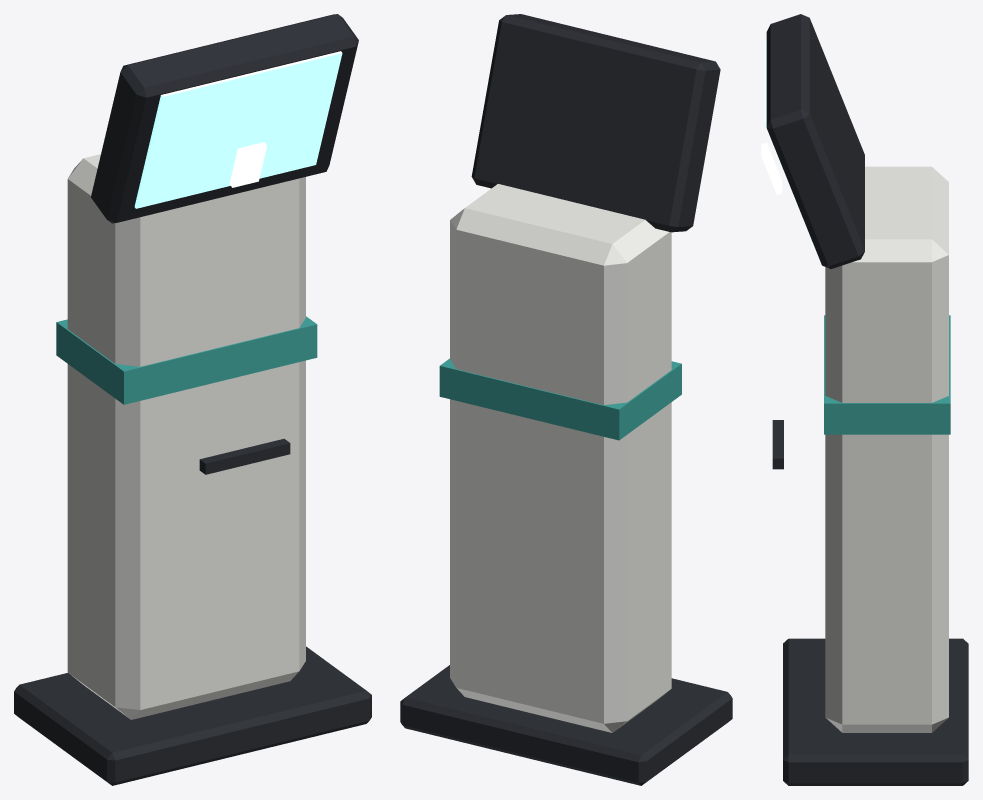
The model's file is selfservice_1.glb.
3 views of the same model, side by side, from view 1: azimuth 30°, elevation 25°; view 2: azimuth 150°, elevation 25°; view 3: azimuth 270°, elevation 25° (orthographic). The views are drawn at different scales.
Parts seen in each view (by area): view 1: selfservice_1_mesh; view 2: selfservice_1_mesh; view 3: selfservice_1_mesh.
Boxes of the visible parts, bbox=[...] form: selfservice_1_mesh: bbox=[14, 14, 371, 785]; selfservice_1_mesh: bbox=[400, 14, 732, 785]; selfservice_1_mesh: bbox=[761, 14, 968, 785].
Bounding box in the file's own units: 0.5 × 1.28 × 0.3615.
